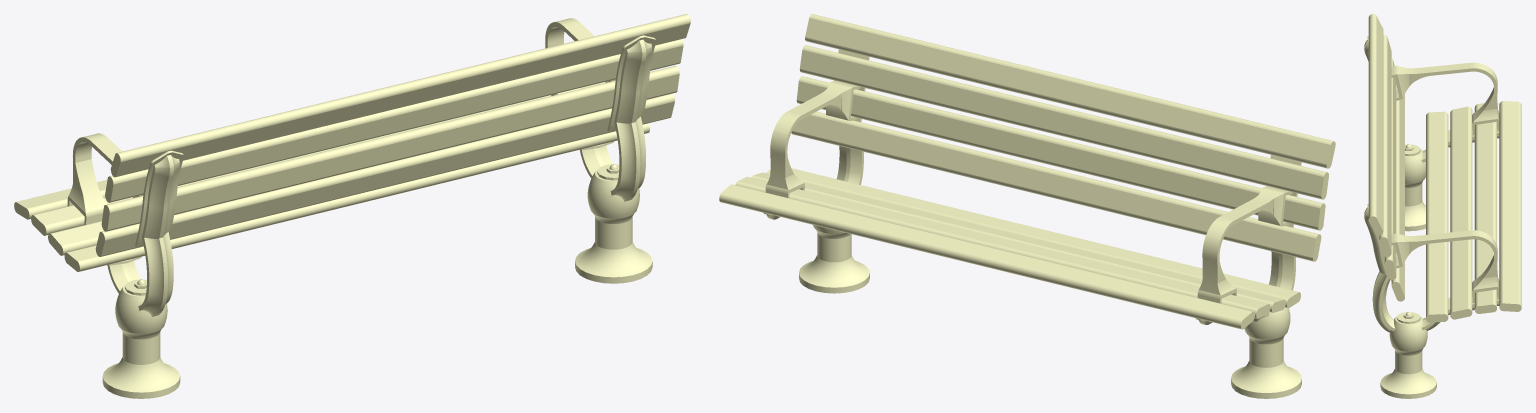
3 renders of one model, left to right at view 1: azimuth 30°, elevation 25°; view 2: azimuth 150°, elevation 25°; view 3: azimuth 270°, elevation 25°, orthographic. The views are drawn at different scales.
Visible parts, largest first — view 1: mesh163_mesh163-geometry, mesh165_mesh165-geometry, mesh169_mesh169-geometry, mesh175_mesh175-geometry, mesh1_mesh1-geometry, mesh81_mesh81-geometry, mesh167_mesh167-geometry, mesh31_mesh31-geometry, mesh171_mesh171-geometry, mesh173_mesh173-geometry, mesh161_mesh161-geometry, mesh111_mesh111-geometry; view 2: mesh165_mesh165-geometry, mesh169_mesh169-geometry, mesh175_mesh175-geometry, mesh163_mesh163-geometry, mesh161_mesh161-geometry, mesh171_mesh171-geometry, mesh167_mesh167-geometry, mesh1_mesh1-geometry, mesh81_mesh81-geometry, mesh173_mesh173-geometry, mesh31_mesh31-geometry, mesh111_mesh111-geometry; view 3: mesh161_mesh161-geometry, mesh81_mesh81-geometry, mesh173_mesh173-geometry, mesh167_mesh167-geometry, mesh171_mesh171-geometry, mesh165_mesh165-geometry, mesh111_mesh111-geometry, mesh31_mesh31-geometry, mesh169_mesh169-geometry, mesh1_mesh1-geometry, mesh175_mesh175-geometry, mesh163_mesh163-geometry.
Boxes of the visible parts, <box> form: mesh163_mesh163-geometry: <box>101,65,679,231</box>; mesh165_mesh165-geometry: <box>110,14,690,177</box>; mesh169_mesh169-geometry: <box>105,39,683,202</box>; mesh175_mesh175-geometry: <box>95,93,674,256</box>; mesh1_mesh1-geometry: <box>102,150,184,398</box>; mesh81_mesh81-geometry: <box>575,35,656,283</box>; mesh167_mesh167-geometry: <box>64,123,649,271</box>; mesh31_mesh31-geometry: <box>67,133,143,224</box>; mesh171_mesh171-geometry: <box>31,82,605,235</box>; mesh173_mesh173-geometry: <box>48,221,103,255</box>; mesh161_mesh161-geometry: <box>14,180,107,219</box>; mesh111_mesh111-geometry: <box>545,18,615,95</box>; mesh165_mesh165-geometry: <box>805,14,1335,168</box>; mesh169_mesh169-geometry: <box>799,45,1328,199</box>; mesh175_mesh175-geometry: <box>791,111,1321,261</box>; mesh163_mesh163-geometry: <box>796,76,1325,230</box>; mesh161_mesh161-geometry: <box>719,184,1254,329</box>; mesh171_mesh171-geometry: <box>735,176,1270,318</box>; mesh167_mesh167-geometry: <box>766,168,1300,308</box>; mesh1_mesh1-geometry: <box>1196,155,1301,398</box>; mesh81_mesh81-geometry: <box>763,49,869,293</box>; mesh173_mesh173-geometry: <box>751,172,1285,312</box>; mesh31_mesh31-geometry: <box>1197,186,1292,303</box>; mesh111_mesh111-geometry: <box>765,81,860,198</box>; mesh161_mesh161-geometry: <box>1499,101,1521,311</box>; mesh81_mesh81-geometry: <box>1364,204,1499,398</box>; mesh173_mesh173-geometry: <box>1450,106,1472,319</box>; mesh167_mesh167-geometry: <box>1426,111,1448,322</box>; mesh171_mesh171-geometry: <box>1474,103,1496,313</box>; mesh165_mesh165-geometry: <box>1368,14,1383,235</box>; mesh111_mesh111-geometry: <box>1391,230,1499,302</box>; mesh31_mesh31-geometry: <box>1391,62,1499,135</box>; mesh169_mesh169-geometry: <box>1379,35,1391,256</box>; mesh1_mesh1-geometry: <box>1364,36,1499,231</box>; mesh175_mesh175-geometry: <box>1391,85,1404,301</box>; mesh163_mesh163-geometry: <box>1384,58,1396,279</box>.
Bounding box in the file's own units: 0.8789 × 0.3802 × 0.2882.
